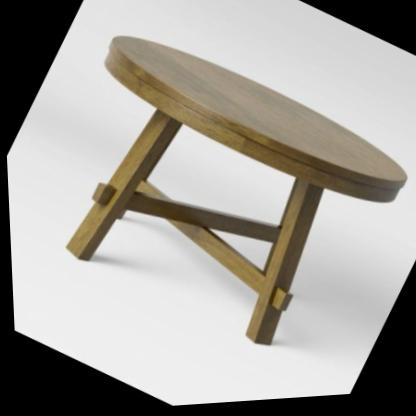Table: (0, 0, 416, 406)
